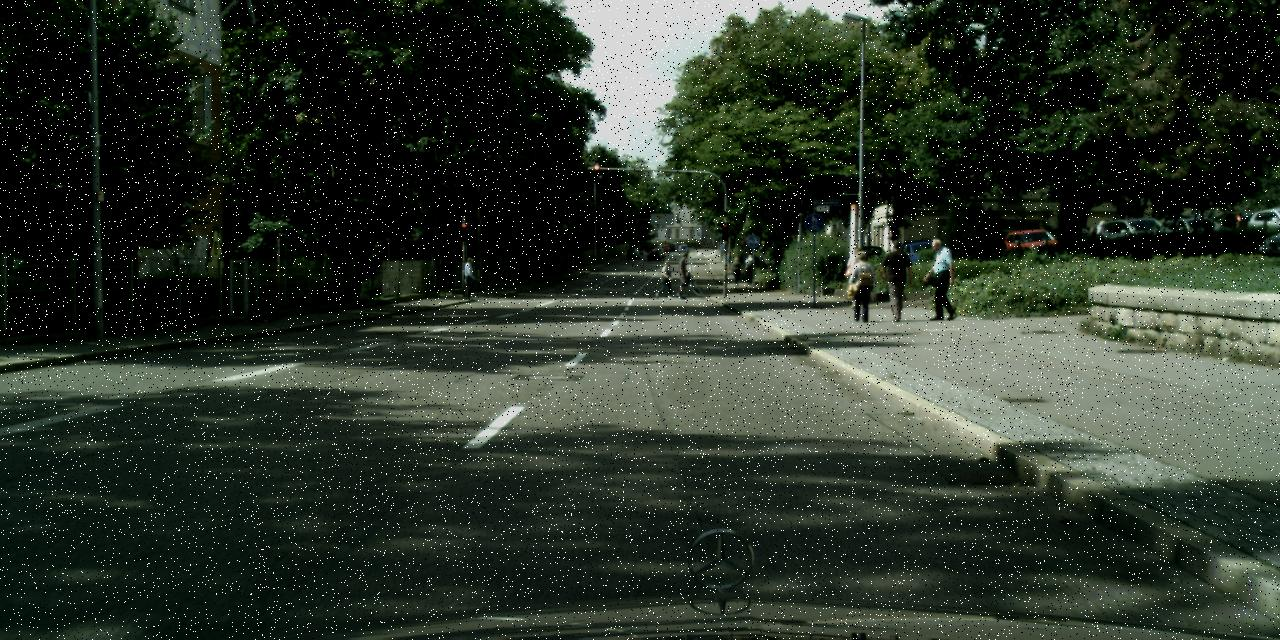ped: (923, 238, 956, 318), (880, 240, 912, 320), (846, 250, 876, 321), (844, 247, 868, 307), (674, 251, 692, 297), (461, 256, 477, 297), (658, 260, 672, 297), (744, 254, 754, 284), (730, 257, 741, 284)
